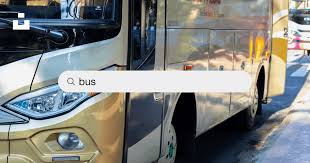bus: (1, 1, 289, 162), (287, 7, 310, 55)
